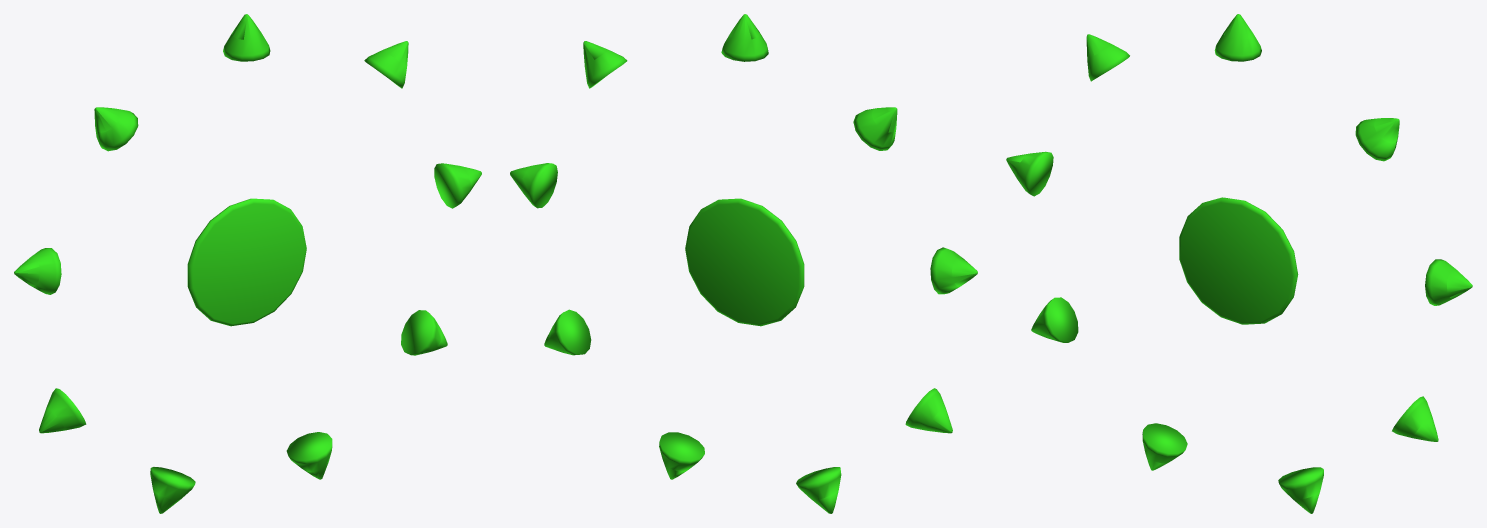
The model's file is gate-checkpoint.glb.
The picture shows the model from 3 angles, left to right: view 1: azimuth 30°, elevation 25°; view 2: azimuth 150°, elevation 25°; view 3: azimuth 330°, elevation 25°; orthographic projection.
Visible parts, largest first — view 1: Cone, Bullseye; view 2: Cone, Bullseye; view 3: Cone, Bullseye.
Part boxes in pixels (x1,y1,x2,y2): Cone: (14, 14, 481, 513); Bullseye: (187, 198, 306, 326); Cone: (510, 14, 977, 513); Bullseye: (685, 198, 804, 326); Cone: (1006, 14, 1472, 513); Bullseye: (1179, 197, 1298, 324).
Size of the model in its own units: 3.66 by 3.62 by 0.3207.
1 material, 1 textured.
